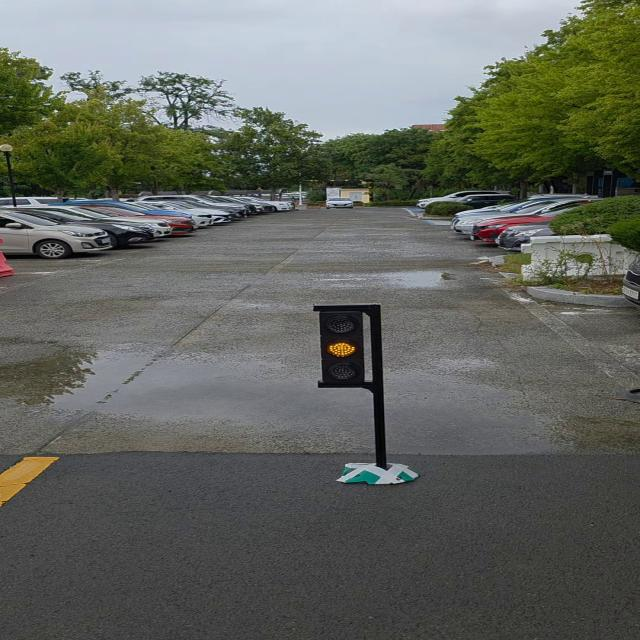yellow: (314, 310, 370, 392)
